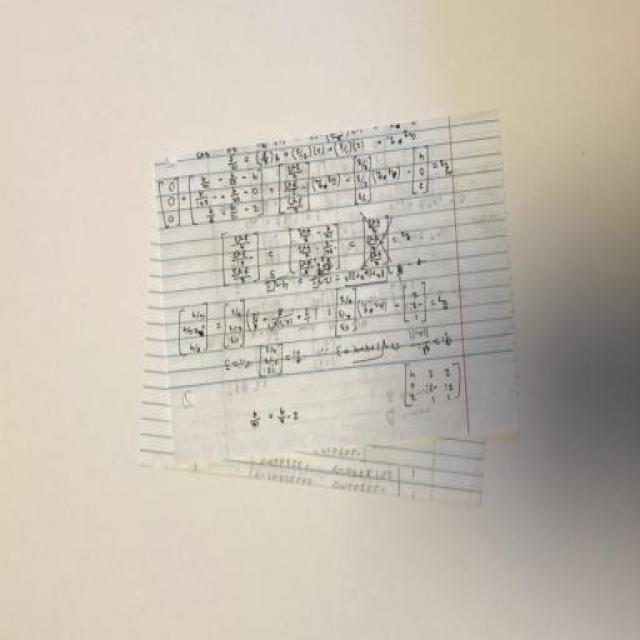paper: (131, 120, 542, 542)
